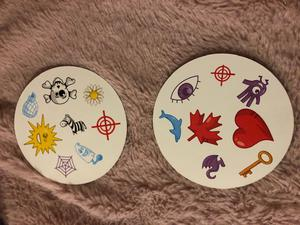cible: (89, 109, 121, 141), (207, 62, 236, 88)
cle: (237, 148, 273, 178)
coeur: (229, 108, 273, 149)
dauphin: (158, 109, 183, 144)
dooble: (235, 74, 271, 107)
dragon: (201, 154, 226, 180)
fantome: (70, 141, 108, 168)
feuille: (184, 107, 224, 145)
fleur: (81, 84, 107, 108)
igloo: (20, 92, 41, 119)
oeuil: (168, 73, 202, 107)
soleil: (23, 114, 64, 158)
tete_mort: (40, 73, 79, 108)
toile: (54, 153, 77, 179)
zebre: (58, 112, 89, 138)
